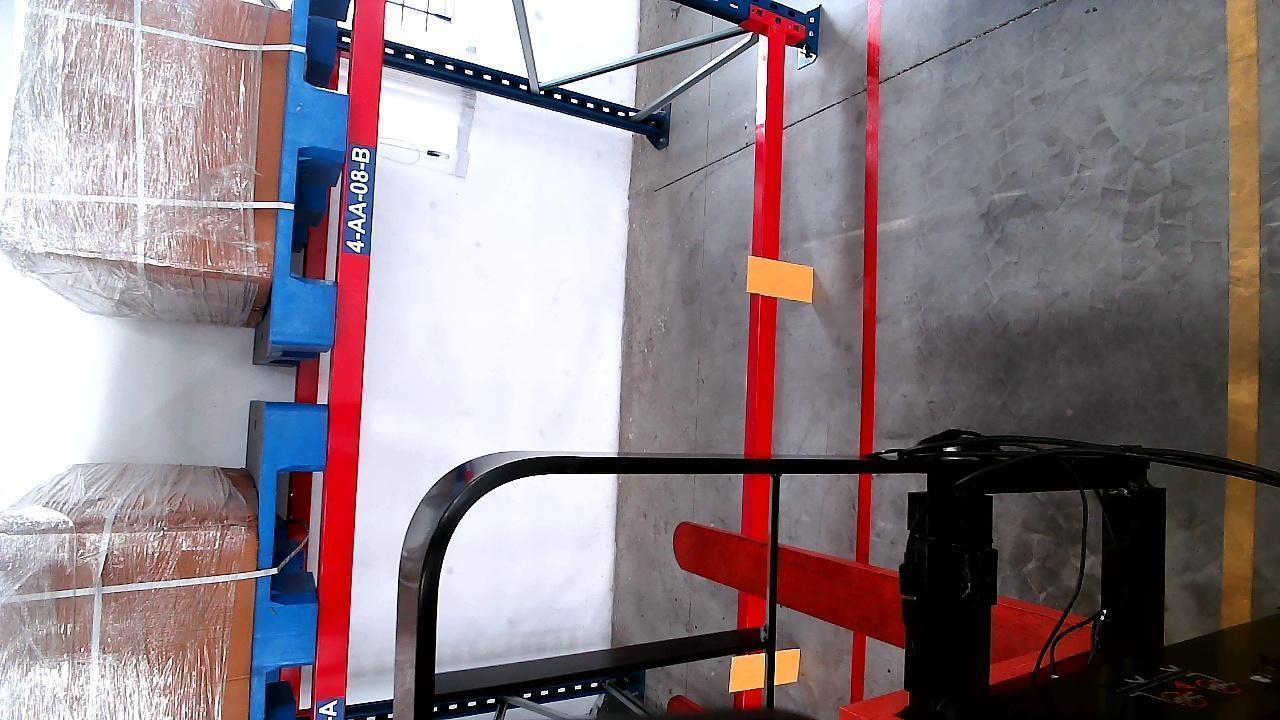red_line: (849, 17, 884, 709)
